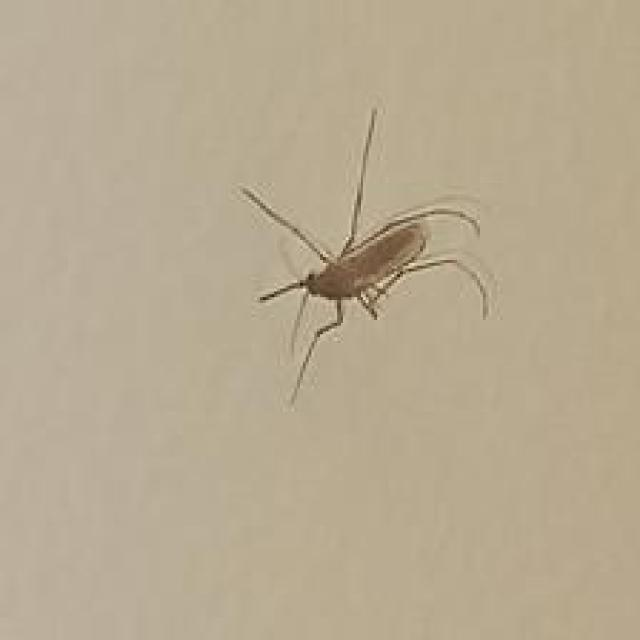Culex: (236, 104, 493, 407)
